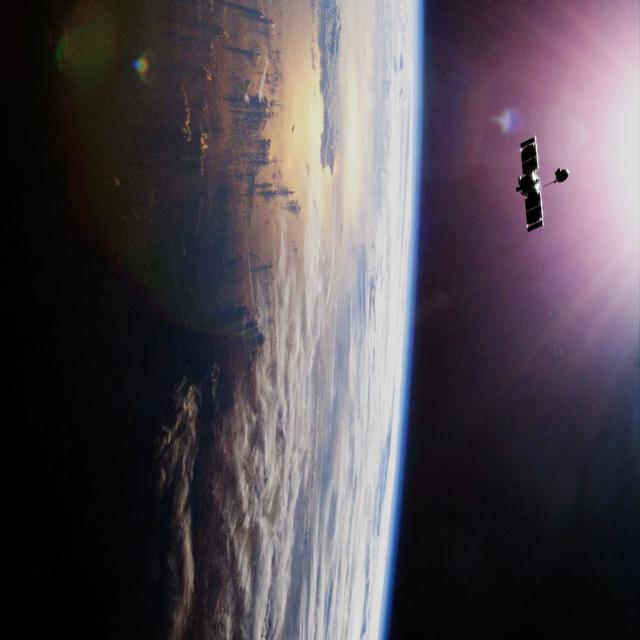satellite: (512, 126, 574, 240)
